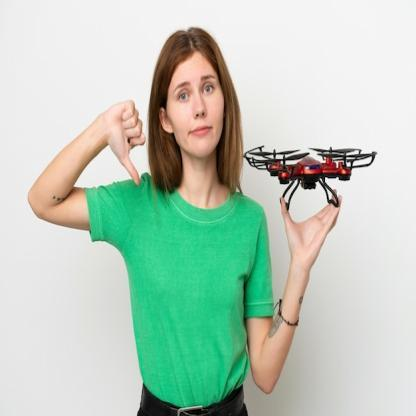thumb_down: (101, 94, 147, 191)
